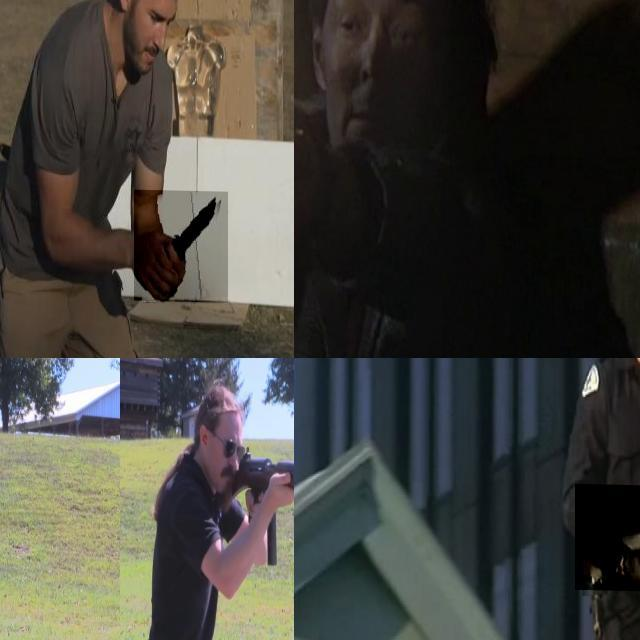-: (134, 188, 228, 301)
gun-knife-thesis - v11 Yolov5 augmented: (294, 10, 414, 230), (0, 358, 143, 458), (0, 375, 50, 640), (210, 358, 294, 495), (215, 438, 294, 566), (575, 482, 640, 592)
